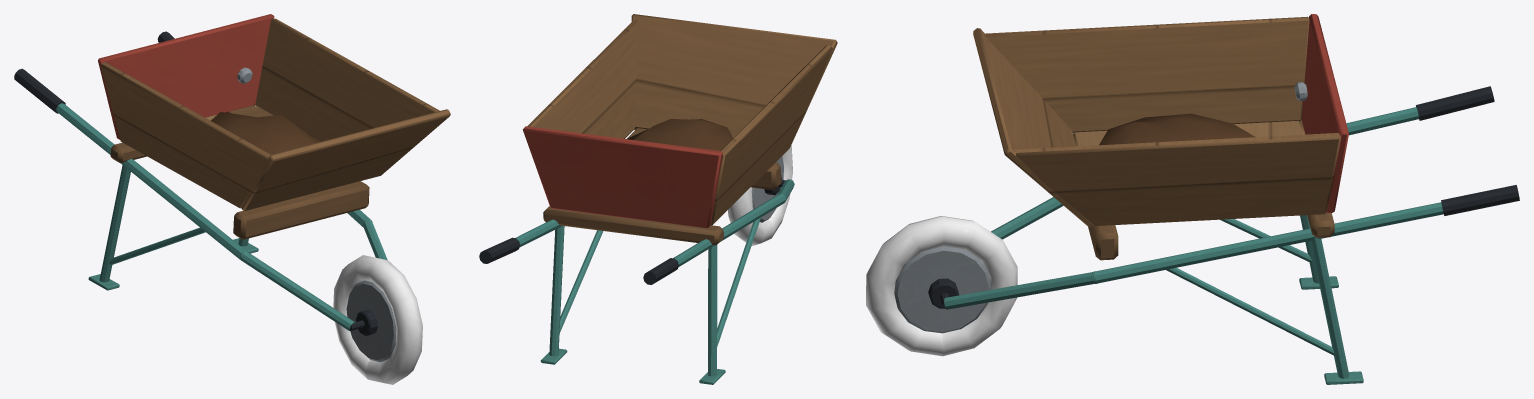
The model's file is wheelbarrow.glb.
3 renders of one model, left to right at view 1: azimuth 30°, elevation 25°; view 2: azimuth 150°, elevation 25°; view 3: azimuth 270°, elevation 25°, orthographic. The views are drawn at different scales.
Parts seen in each view (by area): view 1: wheelbarrow; view 2: wheelbarrow; view 3: wheelbarrow.
Boxes of the visible parts, bbox=[...] form: wheelbarrow: bbox=[14, 14, 450, 384]; wheelbarrow: bbox=[479, 14, 837, 384]; wheelbarrow: bbox=[866, 14, 1519, 384].
Size of the model in its own units: 0.8242 by 0.8157 by 1.73.
Materials: 12 (12 with a texture image).
